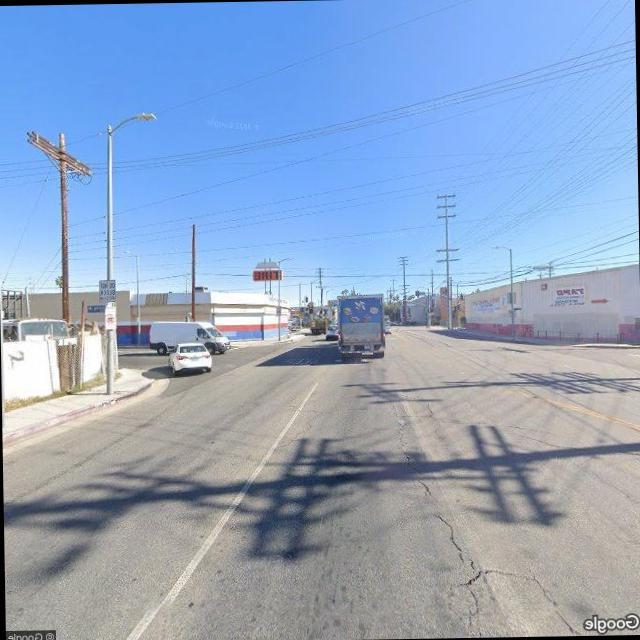crack: (392, 400, 580, 638), (272, 397, 326, 450)
